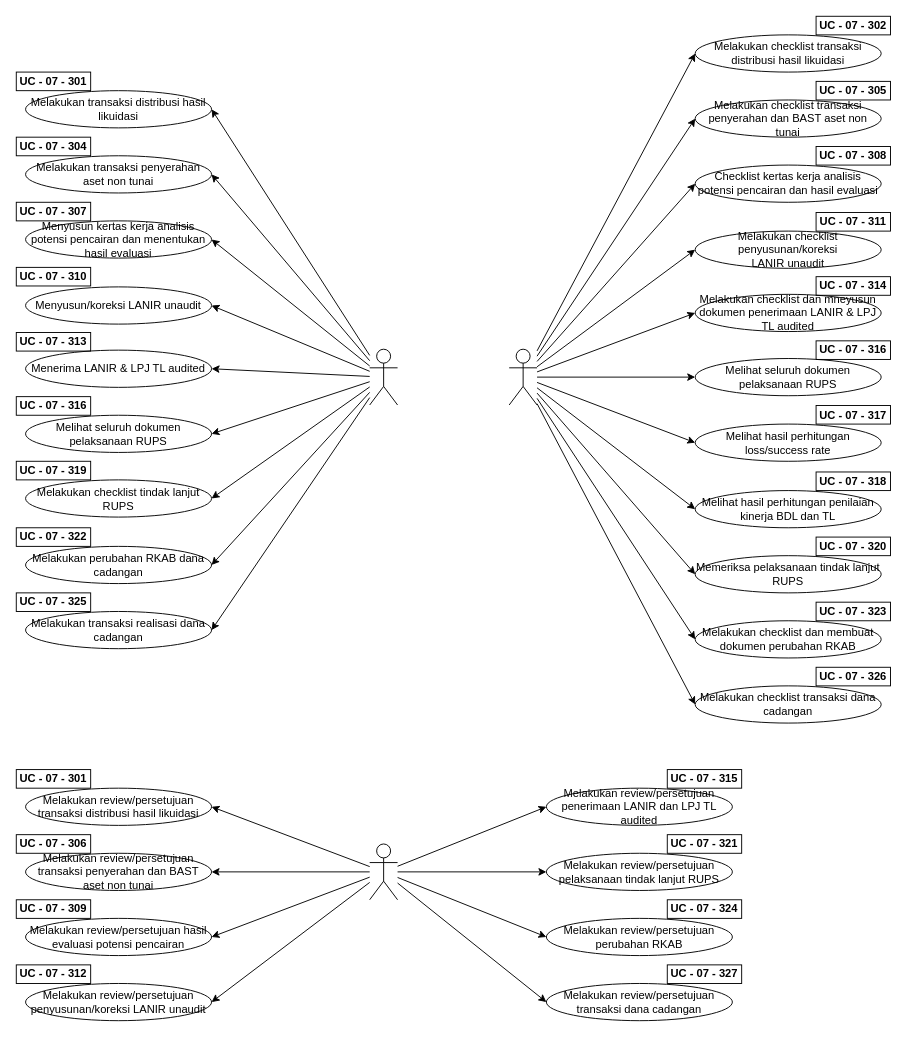
This 907x1037 diagram has some shape labels left out. Here are the shapes that lost their labels. From the top down, the box of each, then its label:
(369, 348, 398, 405): Tim Likuidasi
(508, 348, 537, 405): Pelaksana Likuidasi
(369, 843, 398, 900): Katim, Kadiv Likuidasi DG, DE, KE
